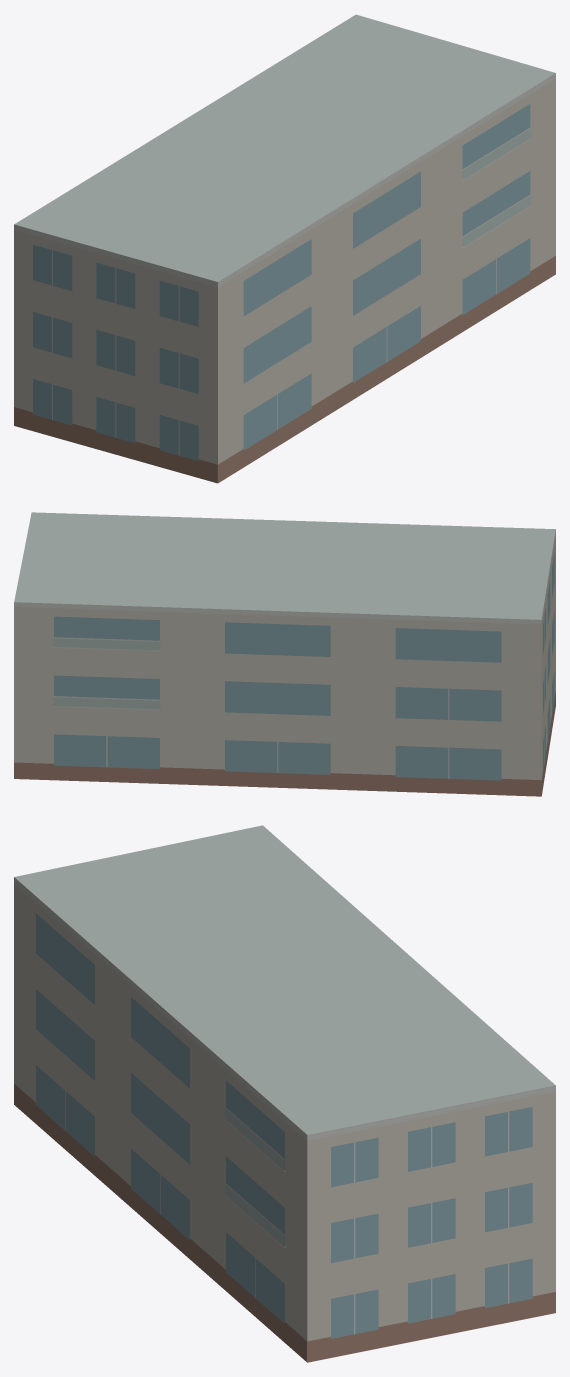
The model's file is survey-upis-32651769.glb.
3 renders of one model, top to bottom at view 1: azimuth 30°, elevation 25°; view 2: azimuth 150°, elevation 25°; view 3: azimuth 270°, elevation 25°, orthographic. The views are drawn at different scales.
Visible parts, largest first — view 1: survey-upis-32651769.tmp; view 2: survey-upis-32651769.tmp; view 3: survey-upis-32651769.tmp.
Boxes of the visible parts, <box> form: survey-upis-32651769.tmp: <box>14,14,555,483</box>; survey-upis-32651769.tmp: <box>14,512,555,796</box>; survey-upis-32651769.tmp: <box>14,825,555,1362</box>.
Size of the model in its own units: 26.71 by 9.15 by 19.75.
